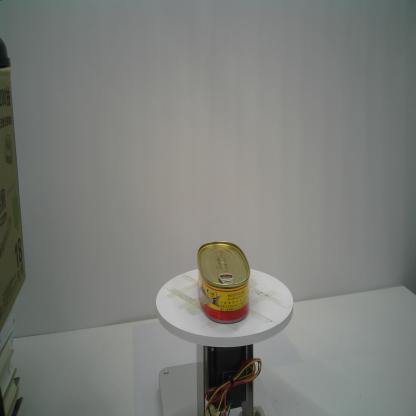Canned Food: (197, 240, 250, 324)
